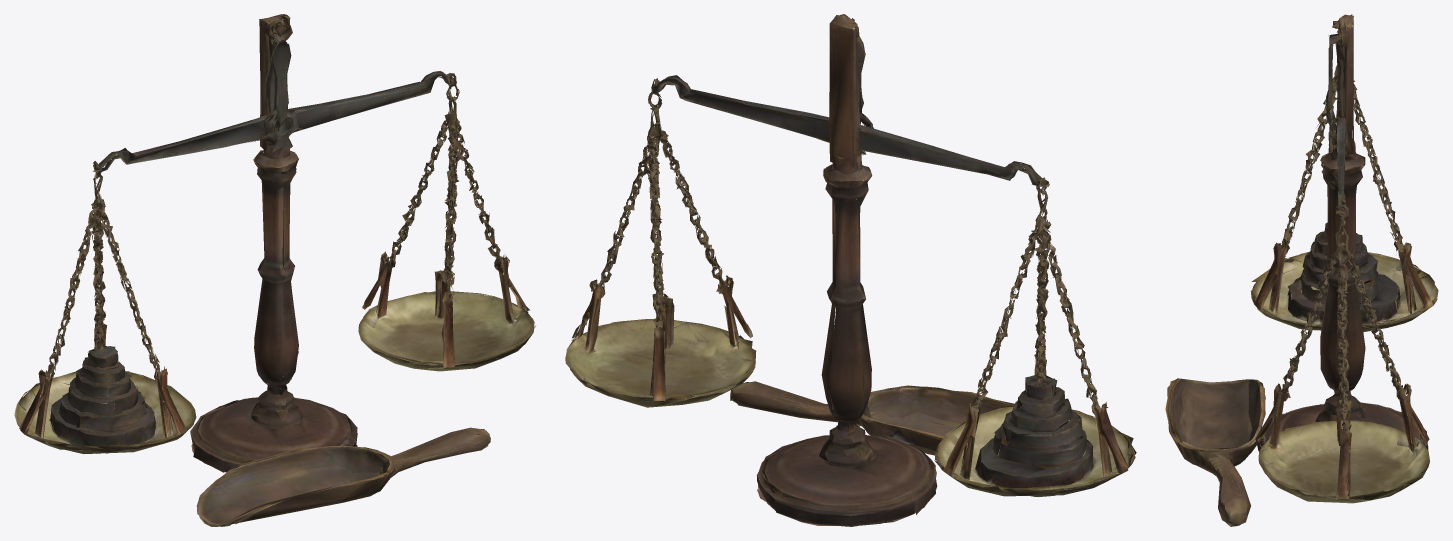
Rendered from merchant-scale-measure.glb.
The picture shows the model from 3 angles, left to right: view 1: azimuth 30°, elevation 25°; view 2: azimuth 150°, elevation 25°; view 3: azimuth 270°, elevation 25°; orthographic projection. The views are drawn at different scales.
Parts seen in each view (by area): view 1: Mesh_0; view 2: Mesh_0; view 3: Mesh_0.
Part boxes in pixels (bbox=[...]): Mesh_0: bbox=[14, 14, 535, 526]; Mesh_0: bbox=[565, 14, 1136, 526]; Mesh_0: bbox=[1165, 14, 1438, 526].
Size of the model in its own units: 1.9 by 1.57 by 0.8785.
Materials: 1 (1 with a texture image).
